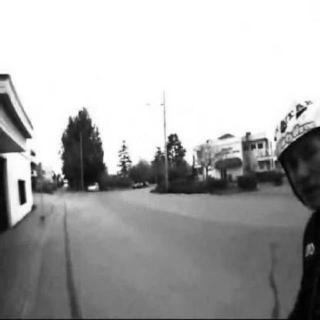other: (30, 130, 68, 192)
